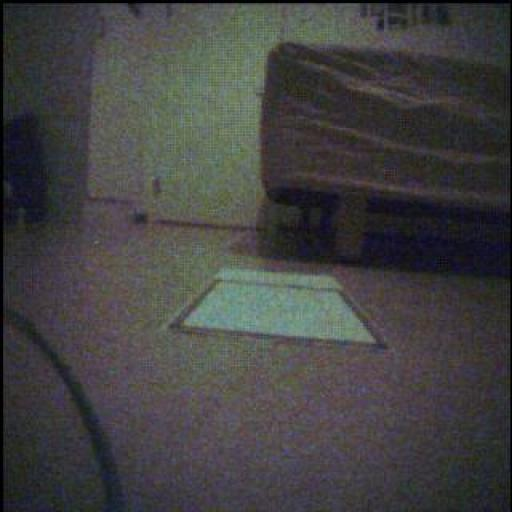pad: (173, 270, 384, 347)
